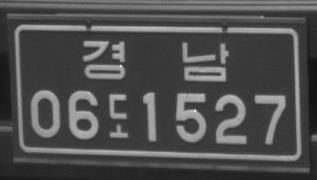0: (29, 88, 61, 139)
1: (138, 90, 165, 142)
2: (214, 92, 248, 145)
5: (173, 91, 208, 144)
6: (67, 89, 100, 141)
7: (253, 93, 287, 146)
경남_D: (81, 38, 229, 84)
도: (107, 92, 130, 138)
